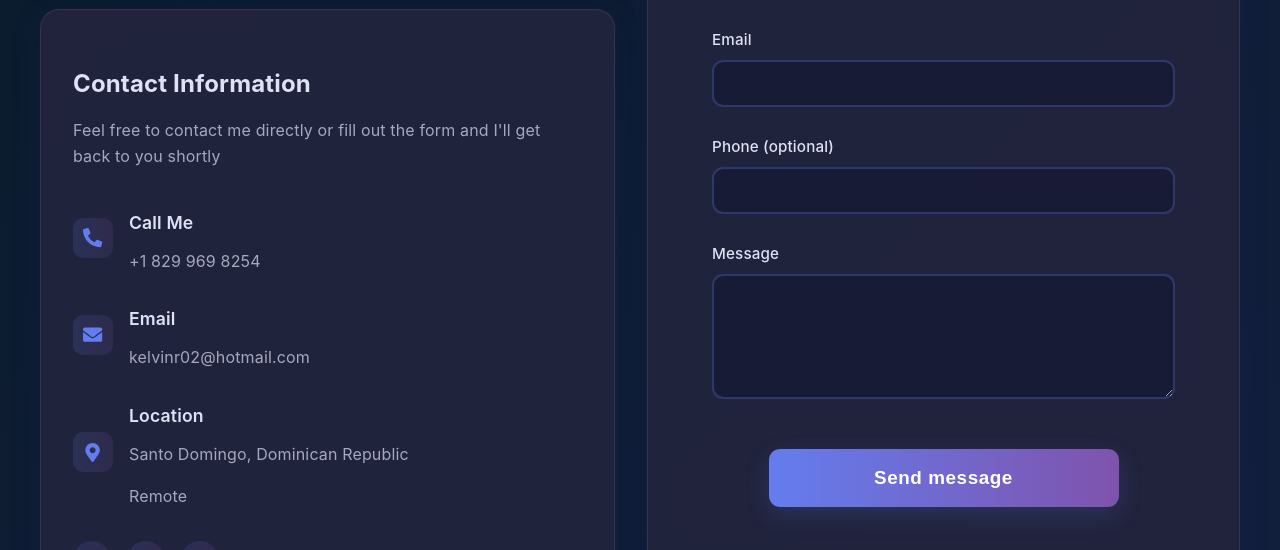
Scenario: Contact Component › shows phone validation error for invalid phone
The image size is (1280, 550).
(page scrolled)
In the field labelled "Phone (optional)": (944,191) [712, 167, 1175, 214], type "abc123"
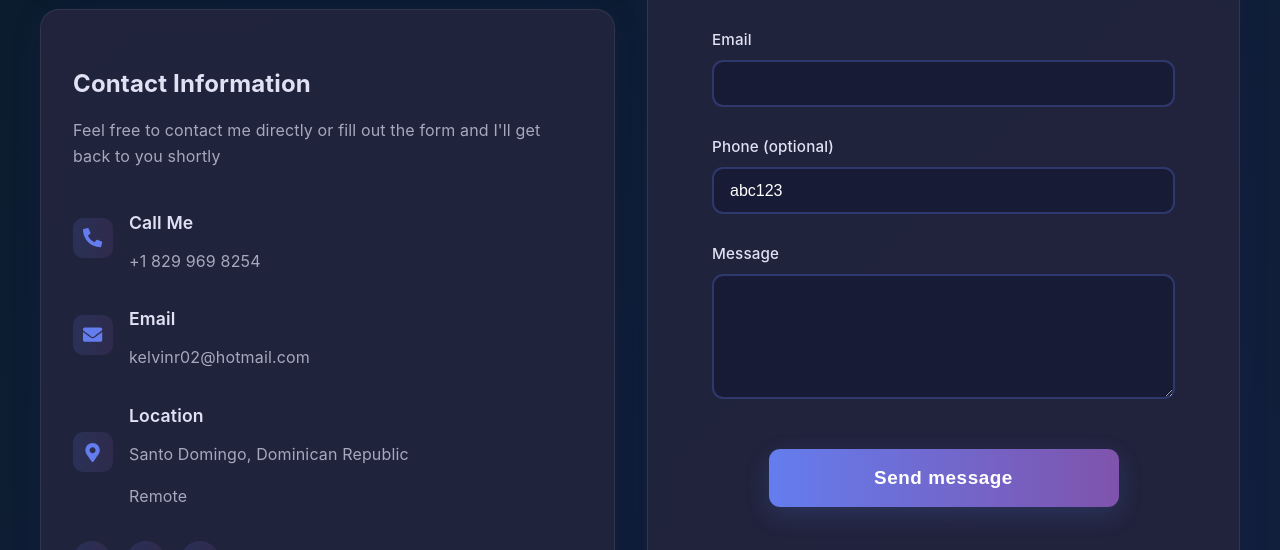
Click the button "Send message": (944,478) [768, 449, 1118, 507]
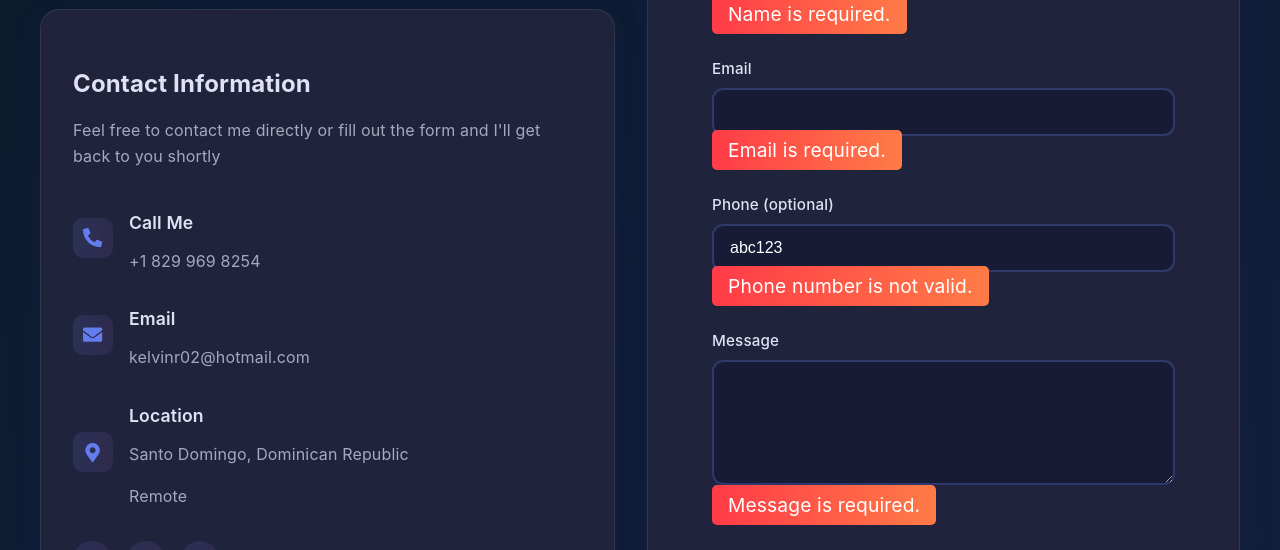
Expected: the text "Phone number is not valid." is shown, [712, 266, 989, 306]
